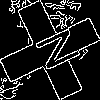N: (25, 25, 82, 77)
